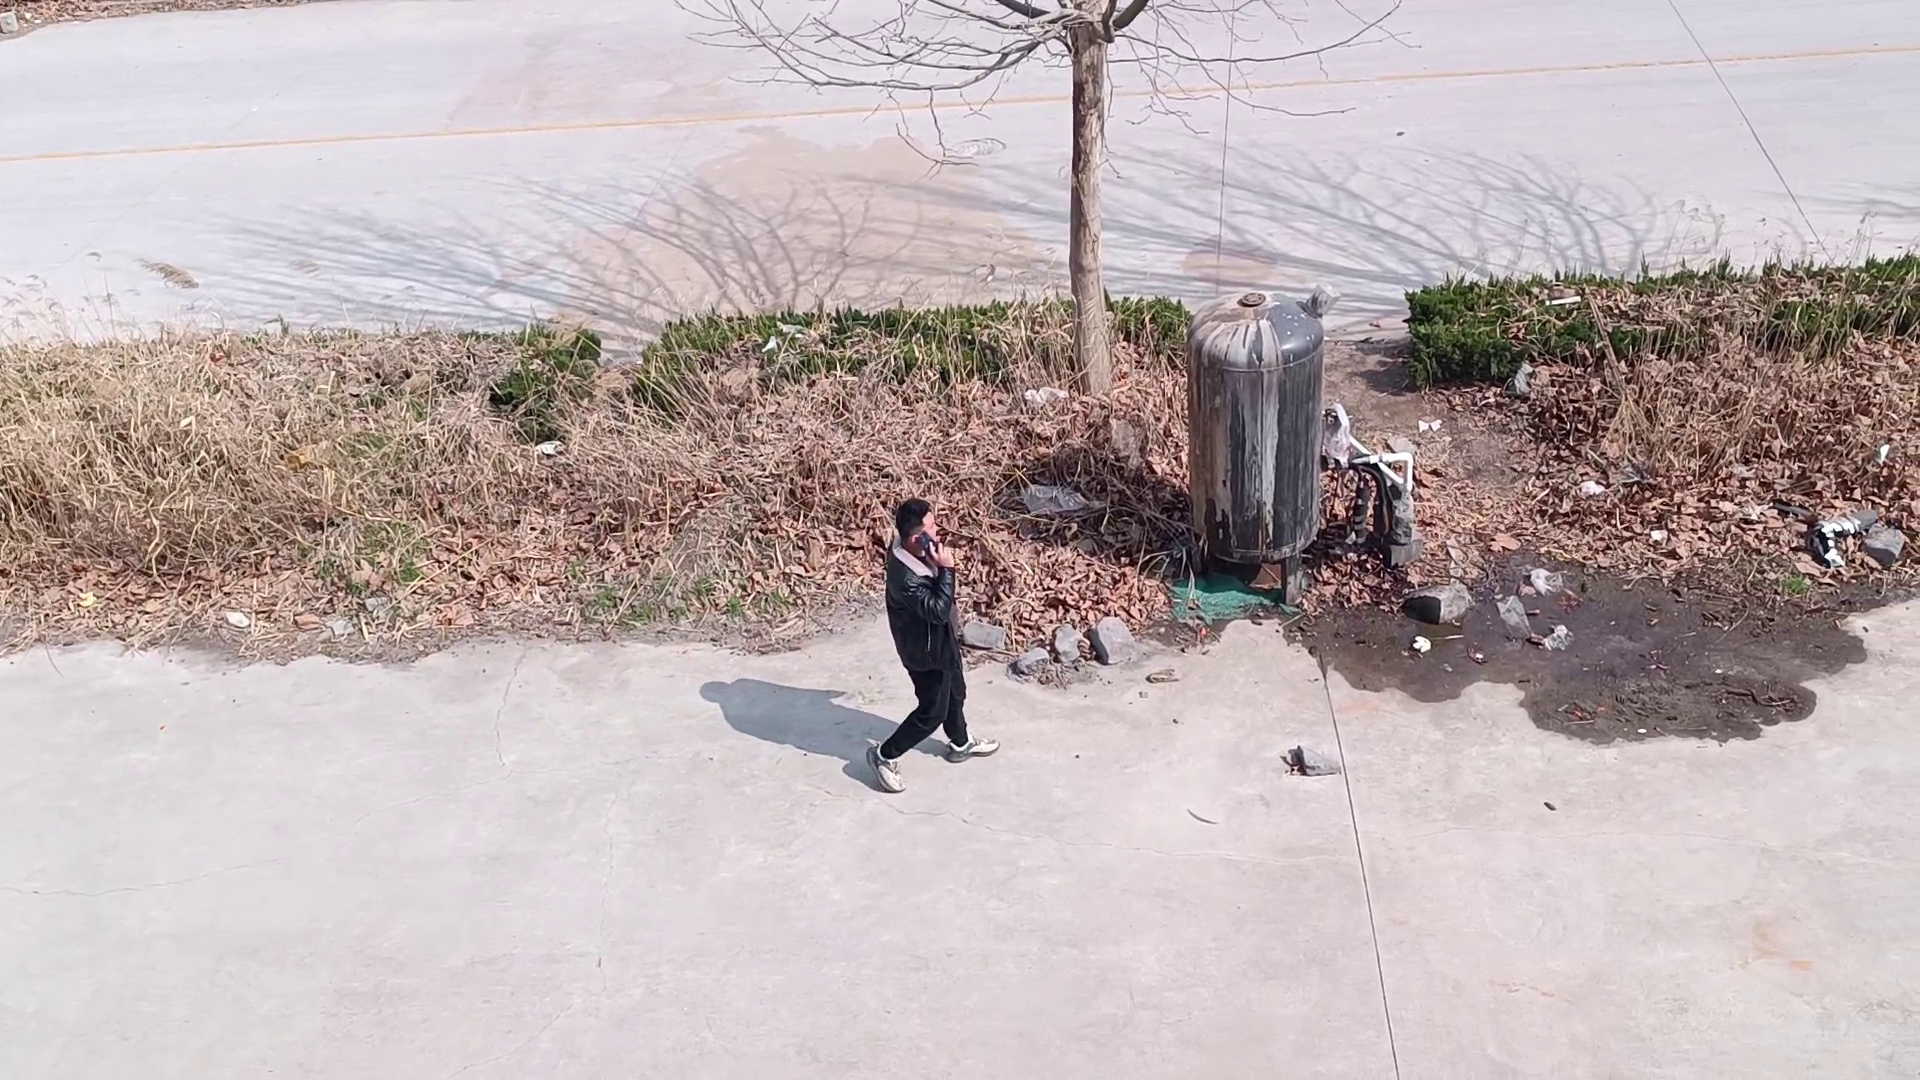phone: (880, 498, 949, 568)
